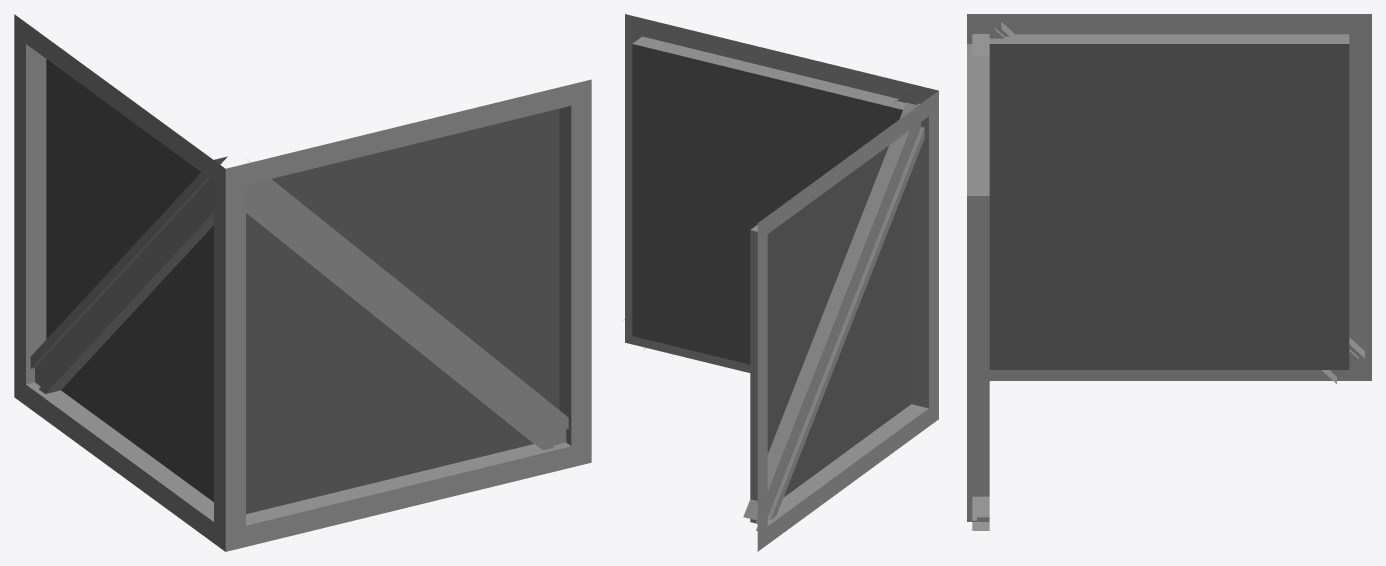
File: Wall_09_Corner.FBX
The picture shows the model from 3 angles, left to right: view 1: azimuth 30°, elevation 25°; view 2: azimuth 150°, elevation 25°; view 3: azimuth 270°, elevation 25°; orthographic projection. The views are drawn at different scales.
Parts seen in each view (by area): view 1: Wall_09_Corner_LOD0; view 2: Wall_09_Corner_LOD0; view 3: Wall_09_Corner_LOD0.
Part boxes in pixels (left/top/right/bottom): Wall_09_Corner_LOD0: left=14, top=14, right=591, bottom=551; Wall_09_Corner_LOD0: left=624, top=14, right=938, bottom=551; Wall_09_Corner_LOD0: left=967, top=14, right=1371, bottom=530.
Size of what is drawn, in the model's own units: 180 by 180 by 180.
